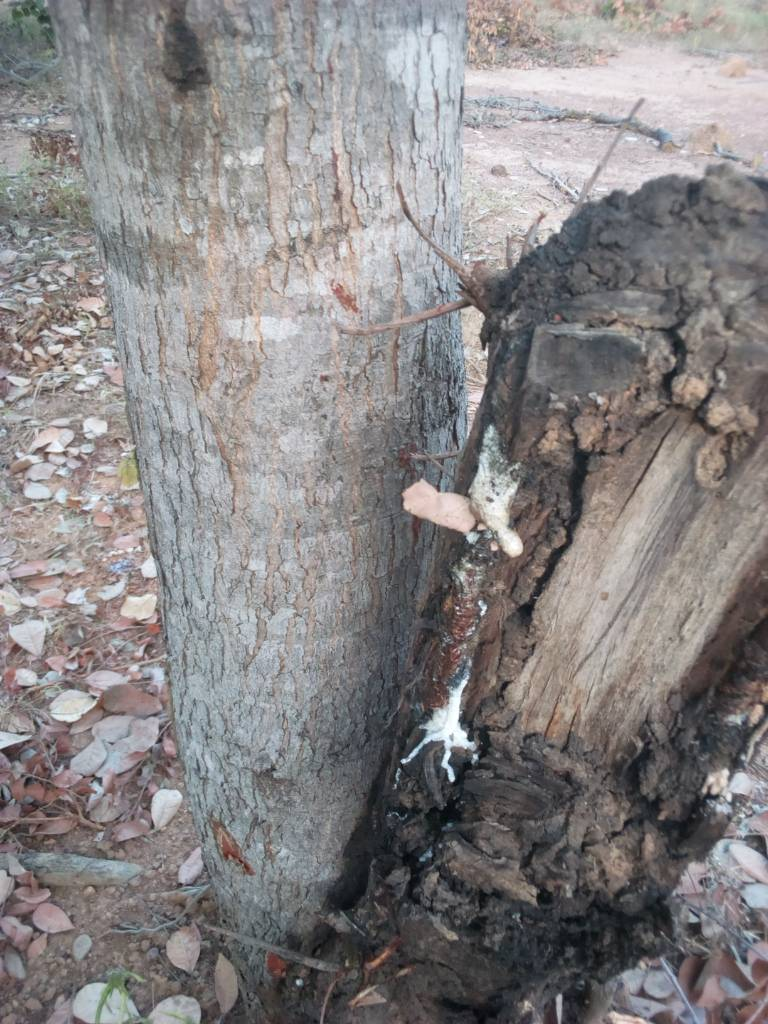Termites: (144, 16, 418, 635)
